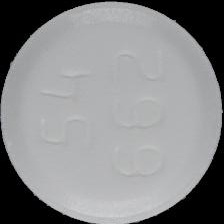43063-266: (0, 0, 224, 224)
